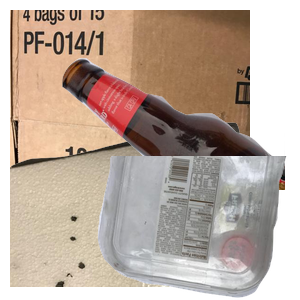cardboard: (10, 10, 250, 190)
glass: (60, 56, 300, 236)
plastic: (95, 156, 300, 300)
trash: (10, 120, 250, 300)
